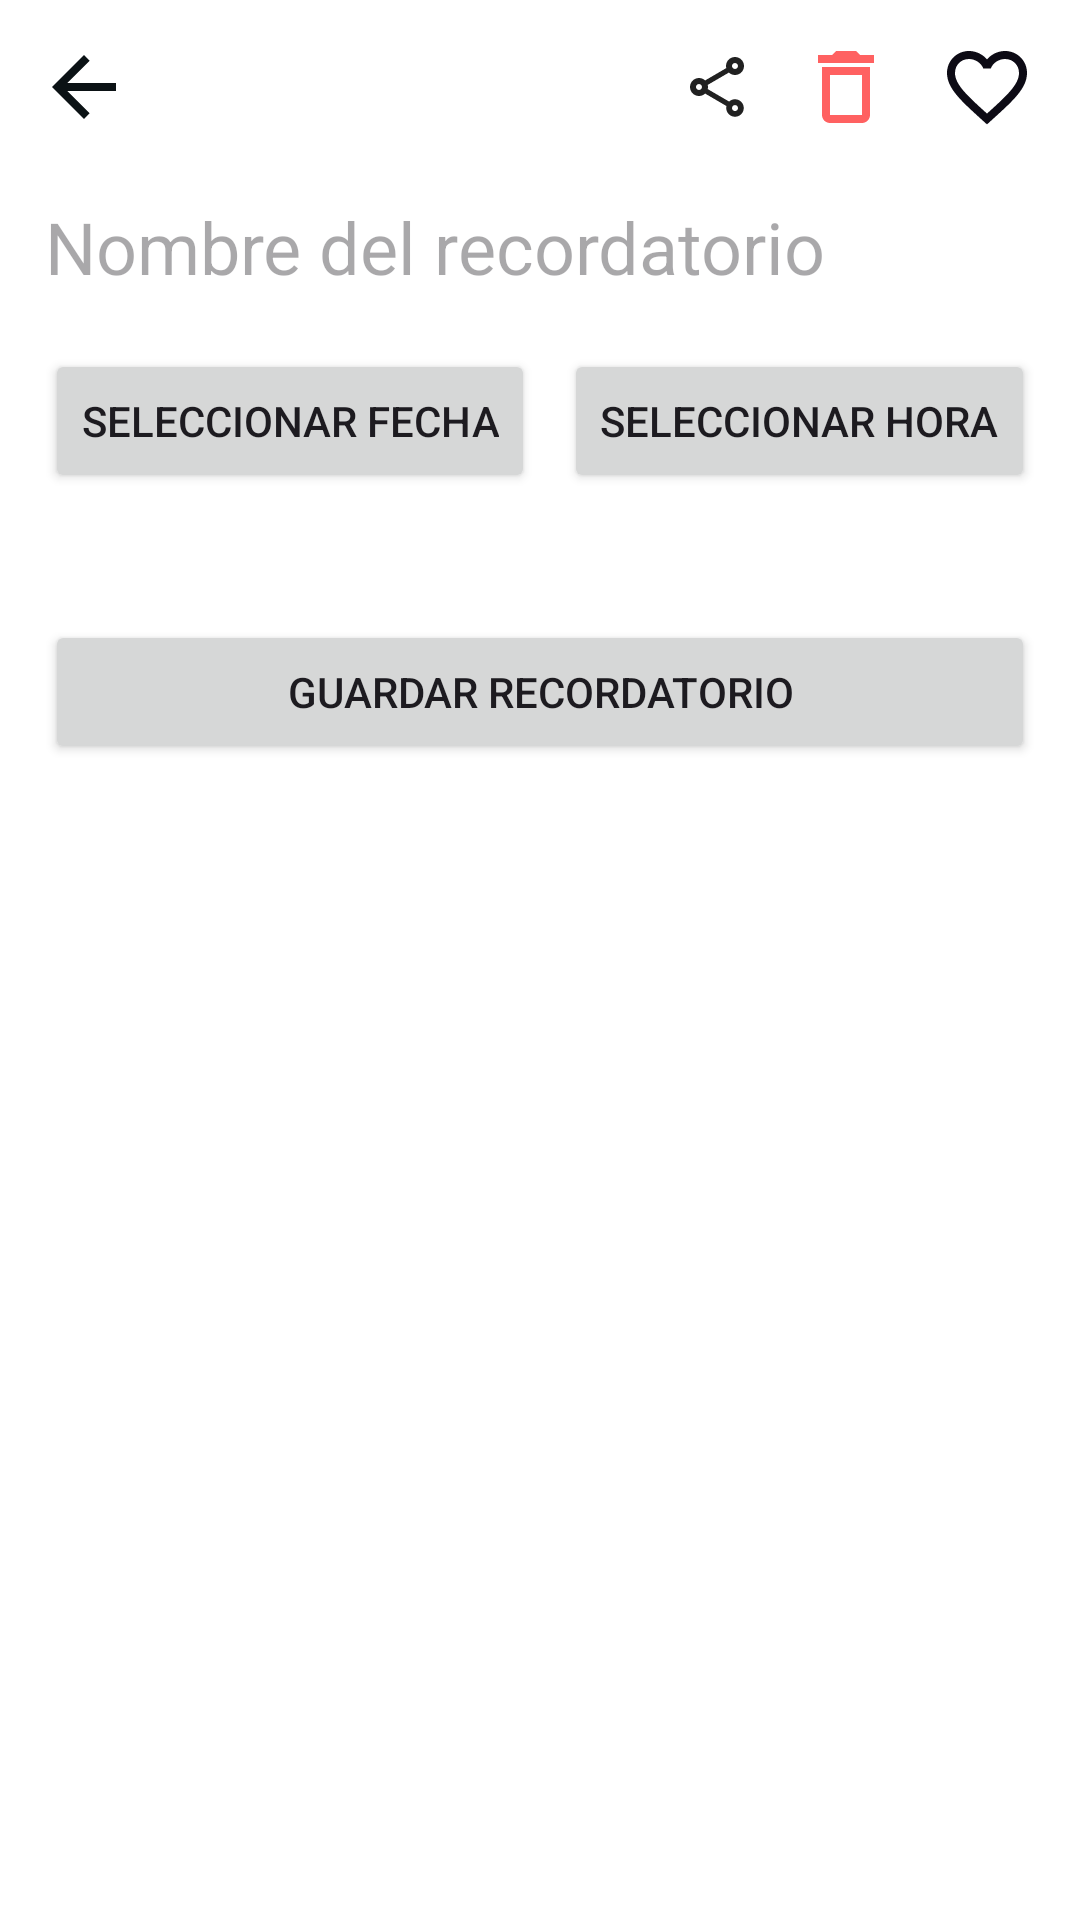

Where to tap for icons on this 1080w x 1920h app screen, as (x,y):
delete: (846,87)
fav: (987,87)
share: (717,87)
